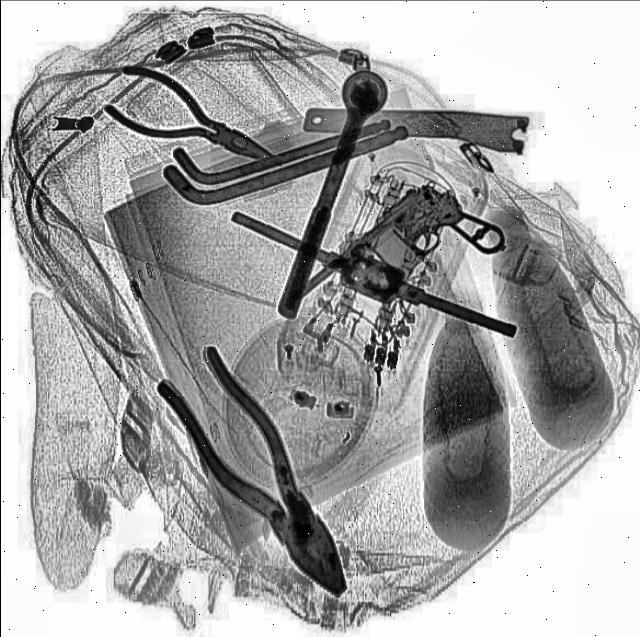Gun: (290, 172, 510, 367)
Pliers: (142, 344, 380, 618), (96, 61, 288, 187)
